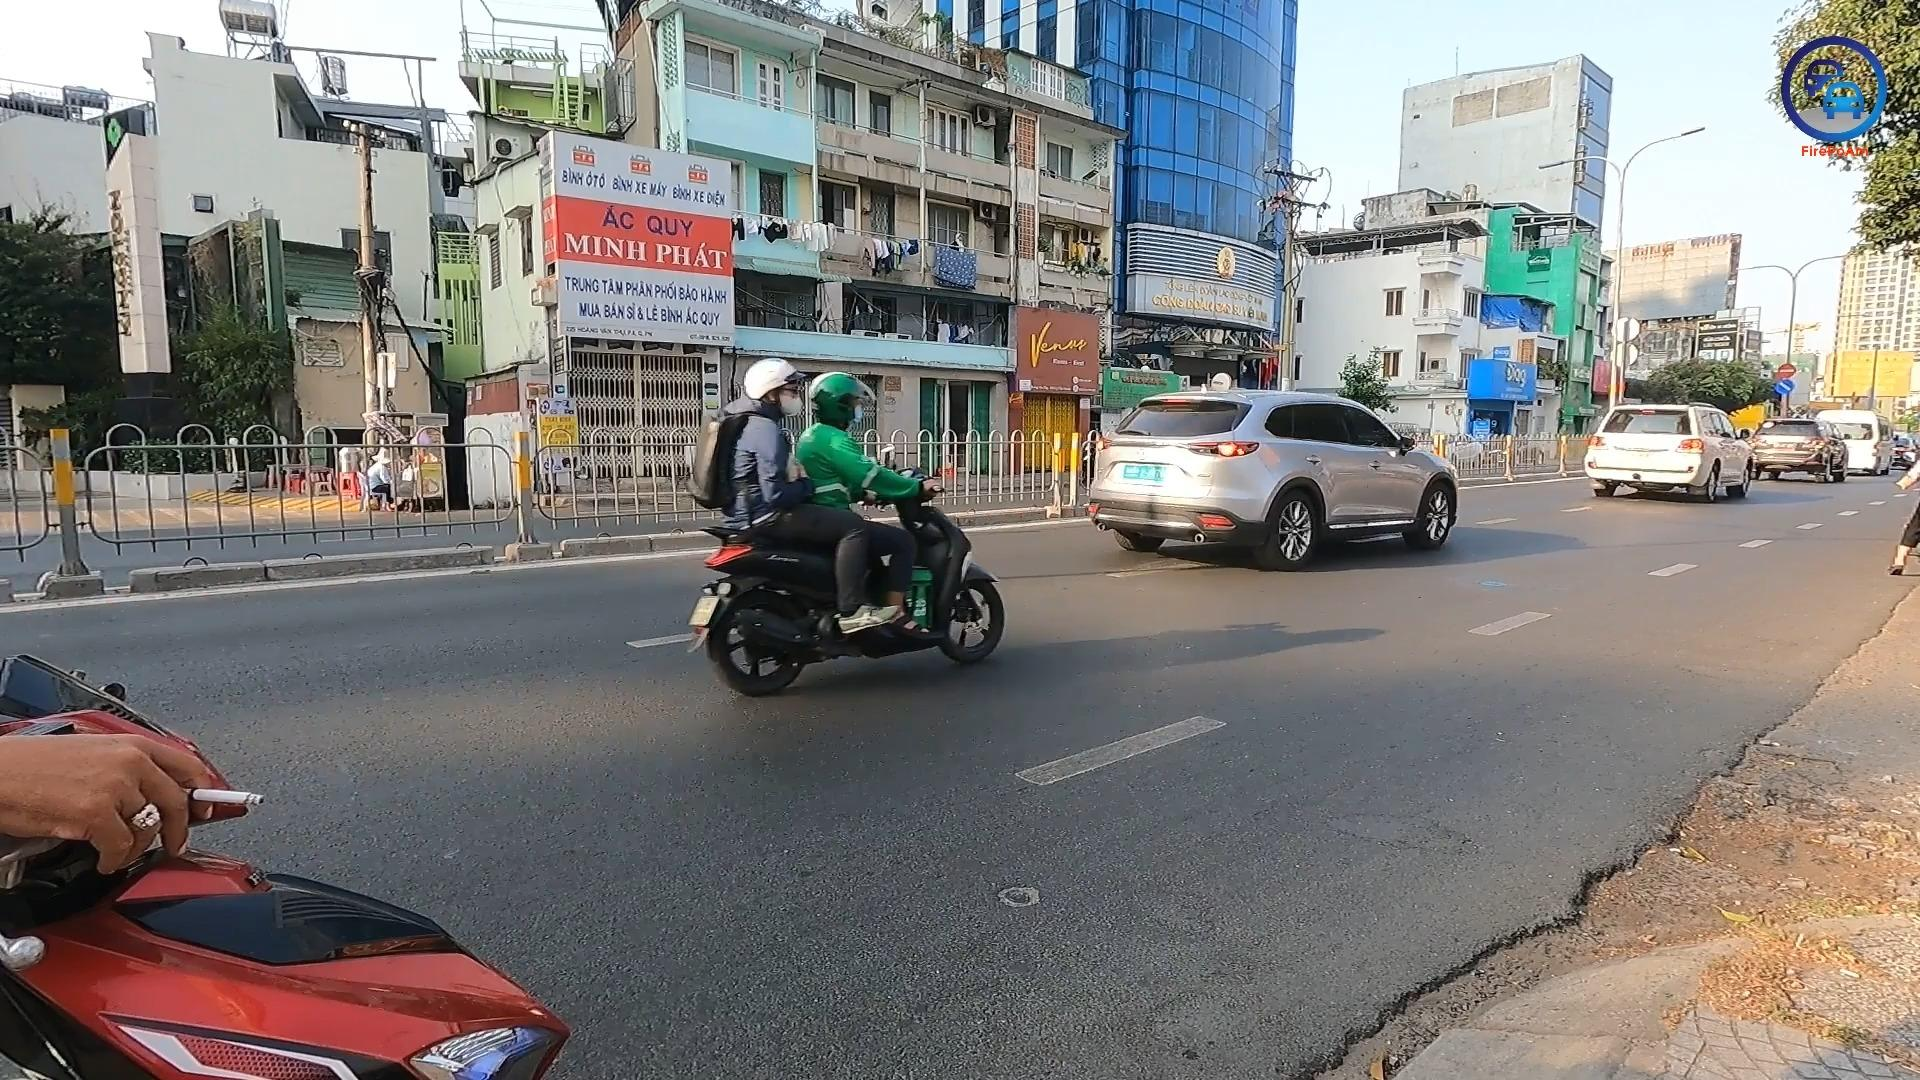bien_so: (685, 594, 719, 628)
